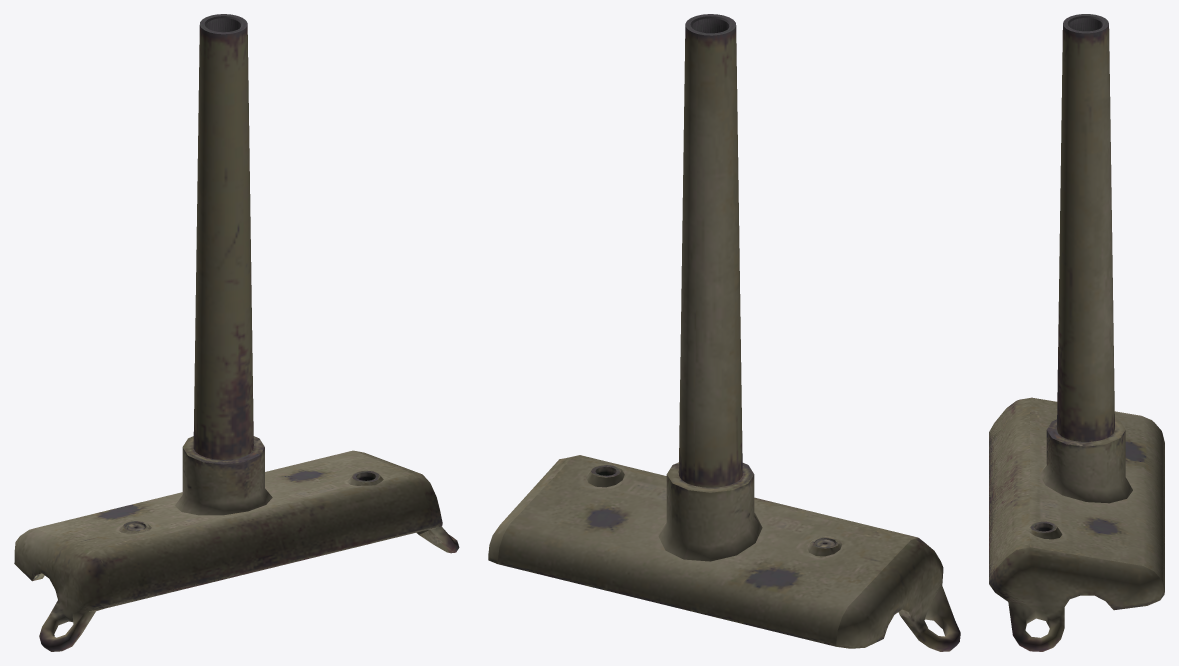
File: Gun_07.glb
3 renders of one model, left to right at view 1: azimuth 30°, elevation 25°; view 2: azimuth 150°, elevation 25°; view 3: azimuth 270°, elevation 25°, orthographic. The views are drawn at different scales.
Visible parts, largest first — view 1: set_0_group_0; view 2: set_0_group_0; view 3: set_0_group_0.
Part boxes in pixels (box(x1,y1,x2,y2)): set_0_group_0: box(14, 14, 459, 651); set_0_group_0: box(488, 14, 960, 651); set_0_group_0: box(989, 14, 1164, 651).
Size of the model in its own units: 1.34 by 1.74 by 0.5169.
1 material, 1 textured.
